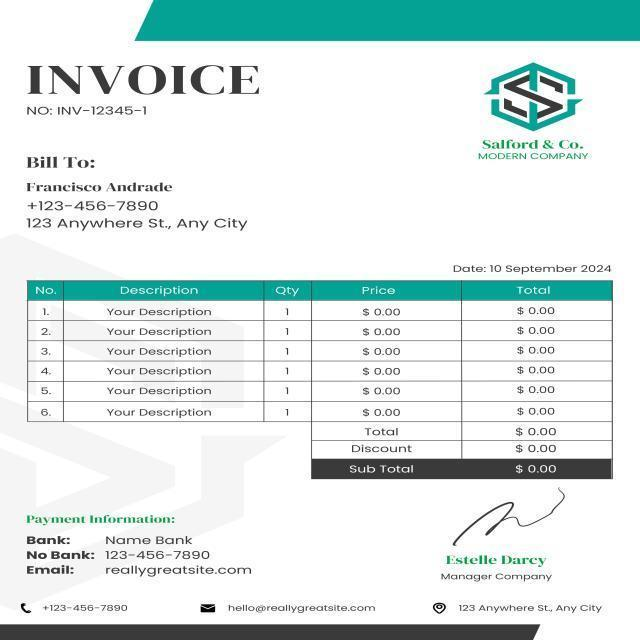ROI: (21, 277, 614, 421), (12, 151, 261, 243), (13, 502, 266, 591), (457, 59, 605, 184), (311, 424, 610, 484), (434, 487, 589, 587), (21, 57, 274, 98), (191, 594, 384, 620), (427, 599, 605, 621), (24, 101, 156, 124), (11, 599, 138, 621), (449, 261, 609, 277)
